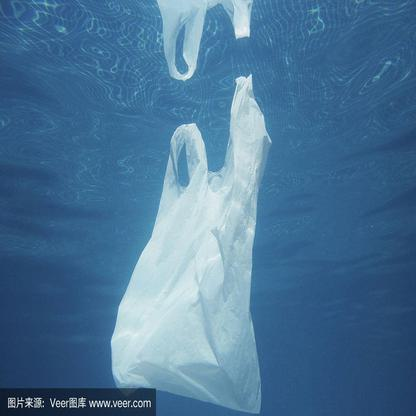plastic bag: (110, 72, 272, 409)
